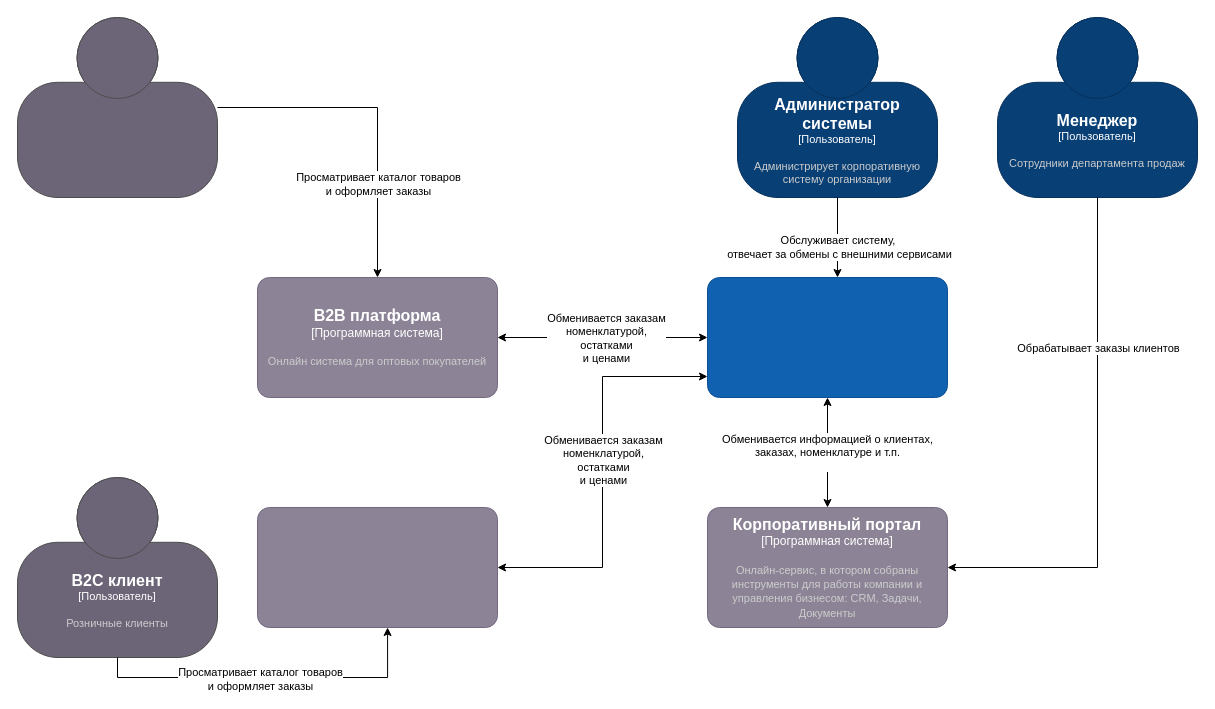
The diagram is 1215 pixels wide and 709 high, and some of its shapes have lost their labels. Each missing label, with the box of its shape:
B2B клиент [Пользователь] Оптовые клиенты компании: (16, 16, 218, 198)
B2C платформа [Программная система] Интернет магазин для розничных покупателей: (256, 506, 498, 628)
Корпоративная система организации [Программная система] Платформа 1С: (706, 276, 948, 398)
